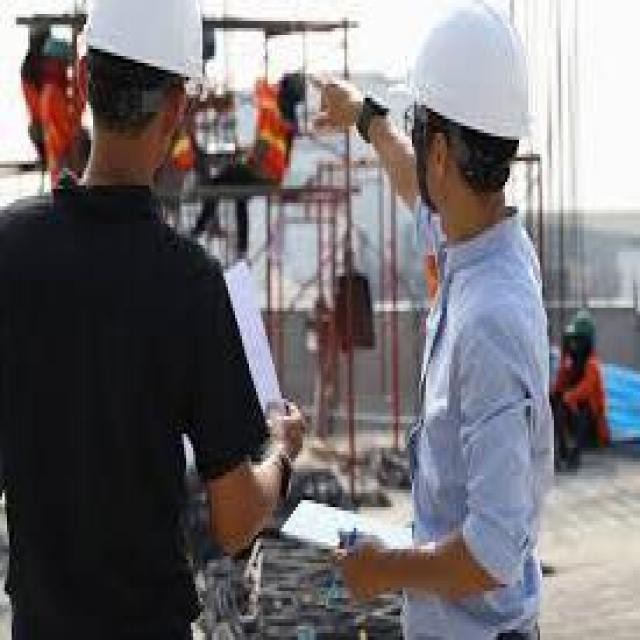Reflective-Jacket: (549, 350, 610, 440)
Safety-Helmet: (405, 4, 542, 150), (74, 0, 212, 91), (558, 304, 600, 346)
